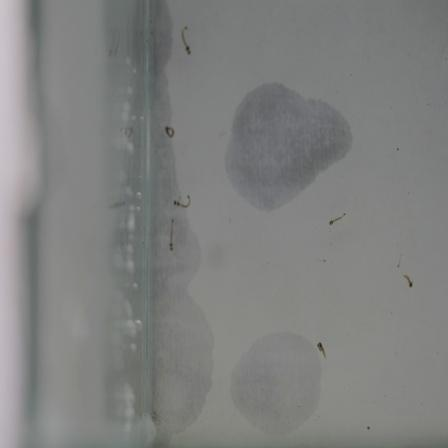Jentik-Nyamuk: (177, 22, 197, 59), (396, 259, 418, 291), (166, 189, 195, 213), (163, 219, 181, 253), (326, 209, 350, 232), (314, 336, 333, 364), (162, 120, 177, 141)
